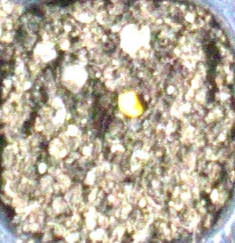pepper seed: (44, 33, 190, 152)
